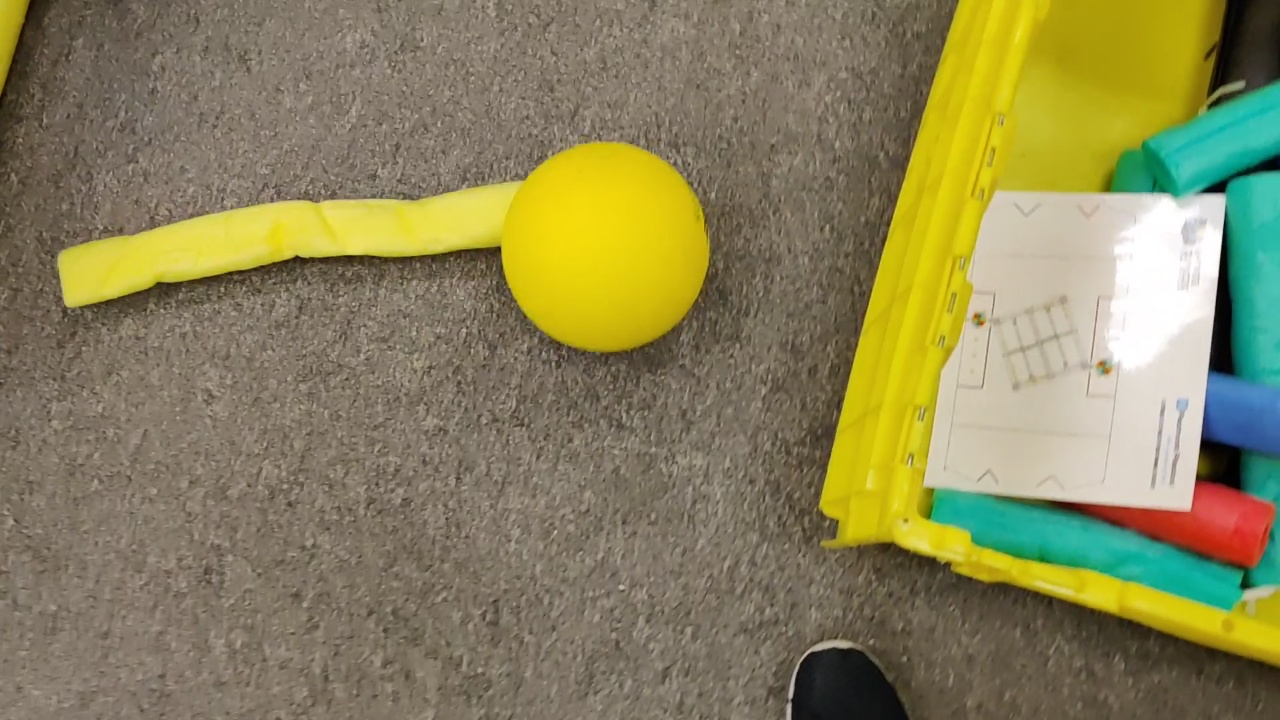Ball: (502, 145, 710, 357)
